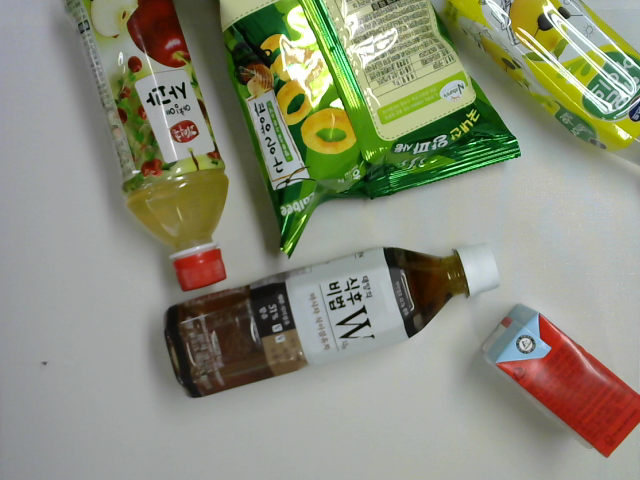Grilled_Onions: (218, 1, 522, 262)
Morning_Apple_500ml: (64, 1, 230, 292)
Picnic_Apple: (474, 302, 640, 459)
Post-meal_recipe_W_tea_500ml: (160, 242, 502, 400)
Sunkist_Lemonaid_Pet: (439, 1, 640, 173)
